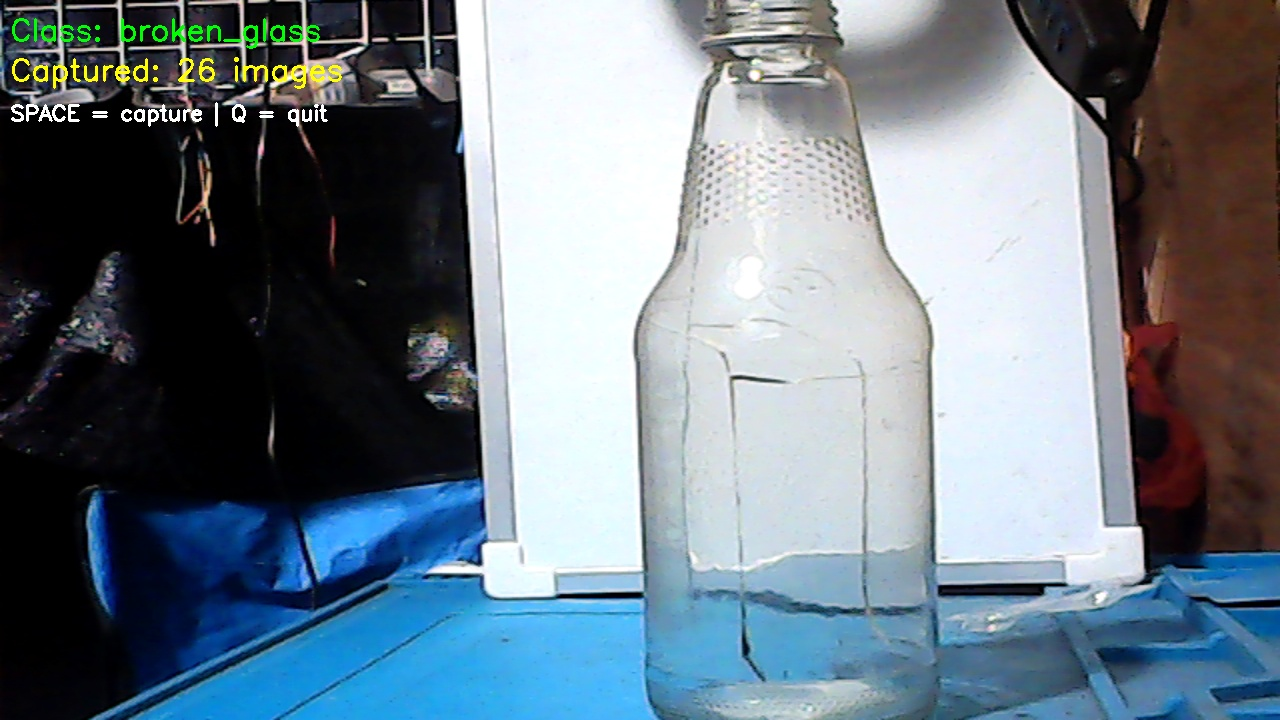broken_glass: (615, 1, 945, 720)
